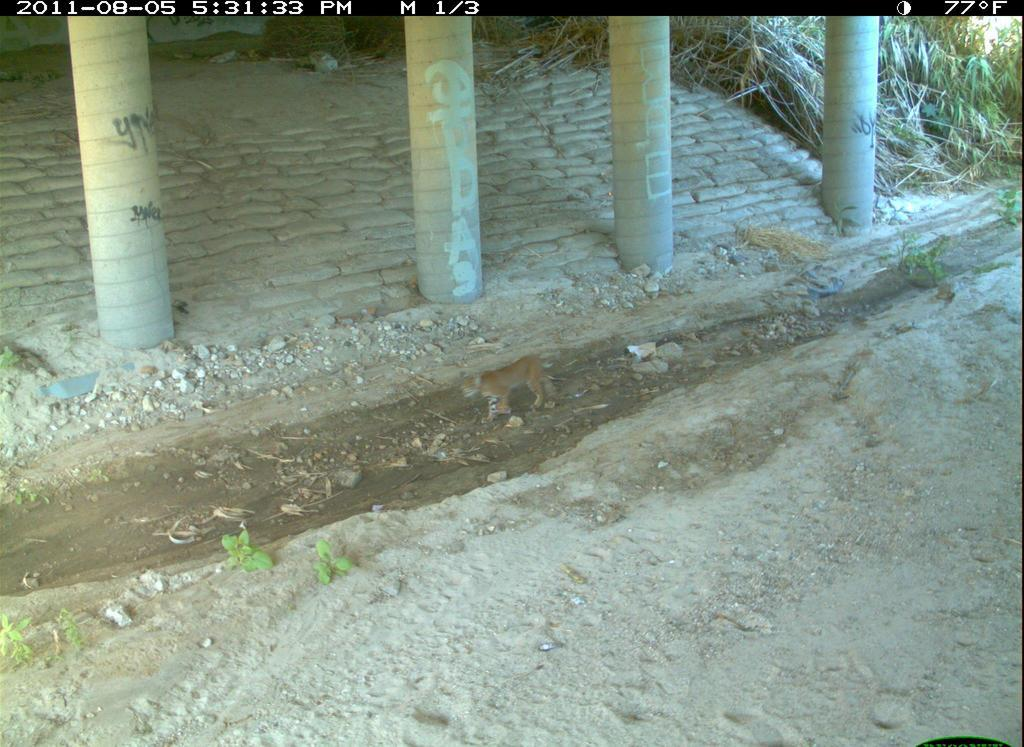bobcat: (908, 699, 1024, 747)
